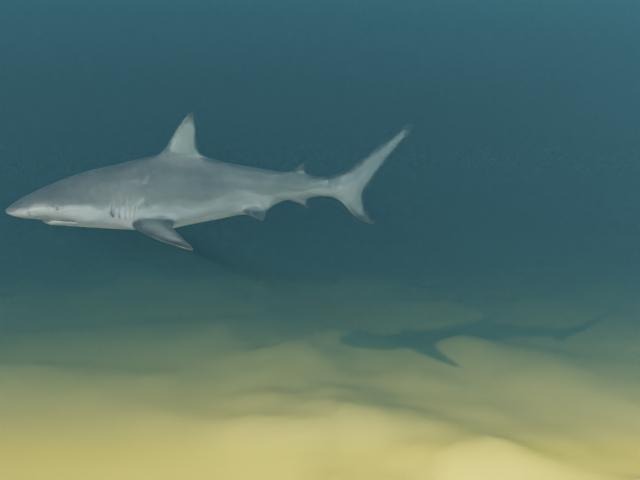Carribean Shark.001: (5, 112, 413, 250)
